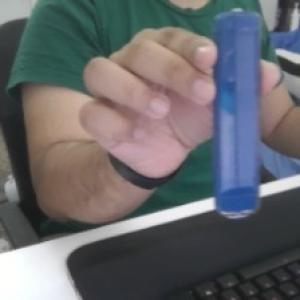Diamond-E-Ciggirate: (212, 6, 264, 226)
